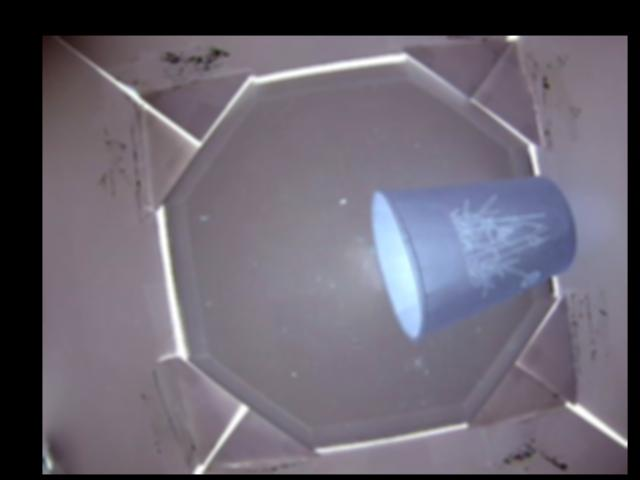Cup: (373, 175, 576, 338)
